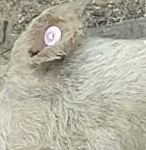text: (37, 18, 69, 51)
